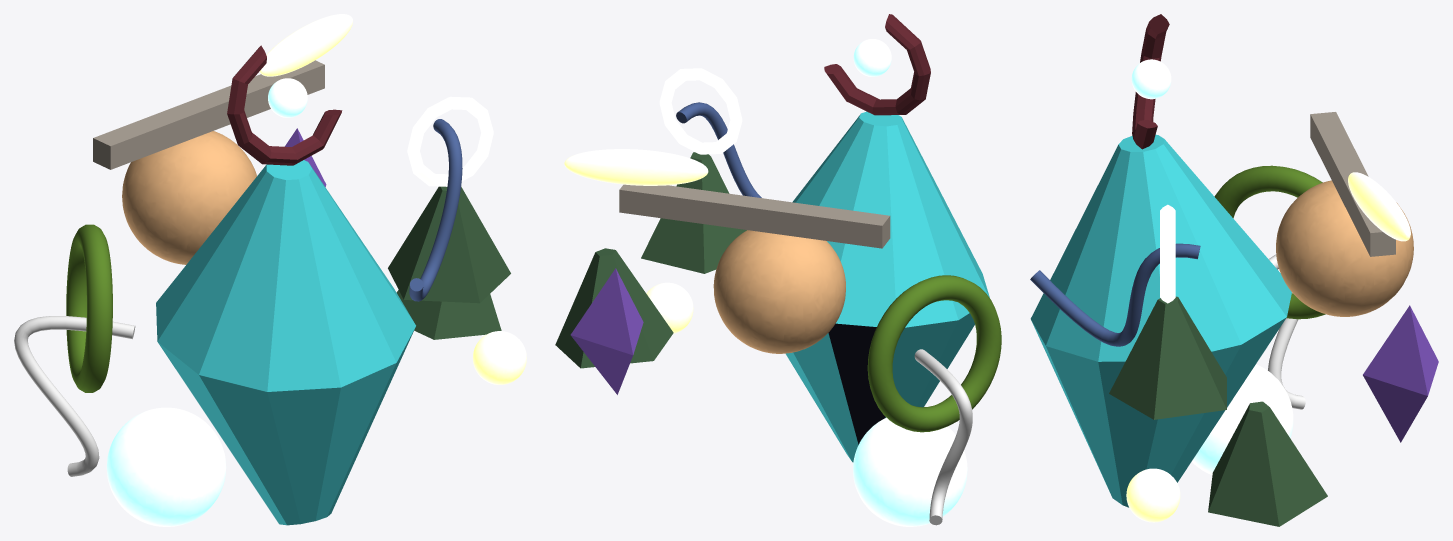
The model's file is scen2_lights.glb.
The picture shows the model from 3 angles, left to right: view 1: azimuth 30°, elevation 25°; view 2: azimuth 150°, elevation 25°; view 3: azimuth 270°, elevation 25°; orthographic projection. The views are drawn at different scales.
Parts seen in each view (by area): view 1: Cylinder_blue, Sphere_pink, Sphere_pink_lil.001, Cylinder, Cube, Circle, BezierCurve.001, Torus_half, Cylinder.001, Sphere_yellow, Torus, BezierCurve (+2 smaller); view 2: Cylinder_blue, Sphere_pink, Circle, Cube, Sphere_pink_lil.001, Cone, Cylinder.001, Cylinder, Sphere_yellow, Torus_half, Torus, BezierCurve.001 (+3 smaller); view 3: Cylinder_blue, Sphere_pink, Cylinder, Cylinder.001, Cone, Cube, Sphere_pink_lil.001, BezierCurve, Circle, Sphere_yellow.001, Sphere_yellow, Torus_half (+3 smaller).
Part boxes in pixels (x1,y1,x2,y2): Cylinder_blue: (156,160,415,525); Sphere_pink: (122,131,256,264); Sphere_pink_lil.001: (106,407,226,526); Cylinder: (388,186,510,303); Cube: (93,60,324,169); Circle: (66,224,112,392); BezierCurve.001: (14,316,135,476); Torus_half: (227,45,342,165); Cylinder.001: (396,290,501,339); Sphere_yellow: (259,14,352,76); Torus: (407,96,493,186); BezierCurve: (409,119,462,301); Cylinder_blue: (786,111,989,462); Sphere_pink: (713,230,845,353); Circle: (867,275,1001,432); Cube: (619,184,890,248); Sphere_pink_lil.001: (853,417,967,526); Cone: (570,268,643,394); Cylinder.001: (555,248,673,368); Cylinder: (641,152,746,273); Sphere_yellow: (564,149,708,185); Torus_half: (824,14,930,115); Torus: (659,68,742,154); BezierCurve.001: (914,349,972,525); Cylinder_blue: (1030,134,1291,507); Sphere_pink: (1276,180,1413,316); Cylinder: (1109,296,1226,419); Cylinder.001: (1208,401,1327,526); Cone: (1363,305,1438,442); Cube: (1310,112,1395,256); Sphere_pink_lil.001: (1191,364,1293,475); BezierCurve: (1030,243,1200,346); Circle: (1214,165,1325,319); Sphere_yellow.001: (1126,468,1180,522); Sphere_yellow: (1348,172,1410,241); Torus_half: (1132,14,1169,149).
Bounding box in the file's own units: 2.01 × 2.06 × 1.56.
Materials: 2 (1 with a texture image).
